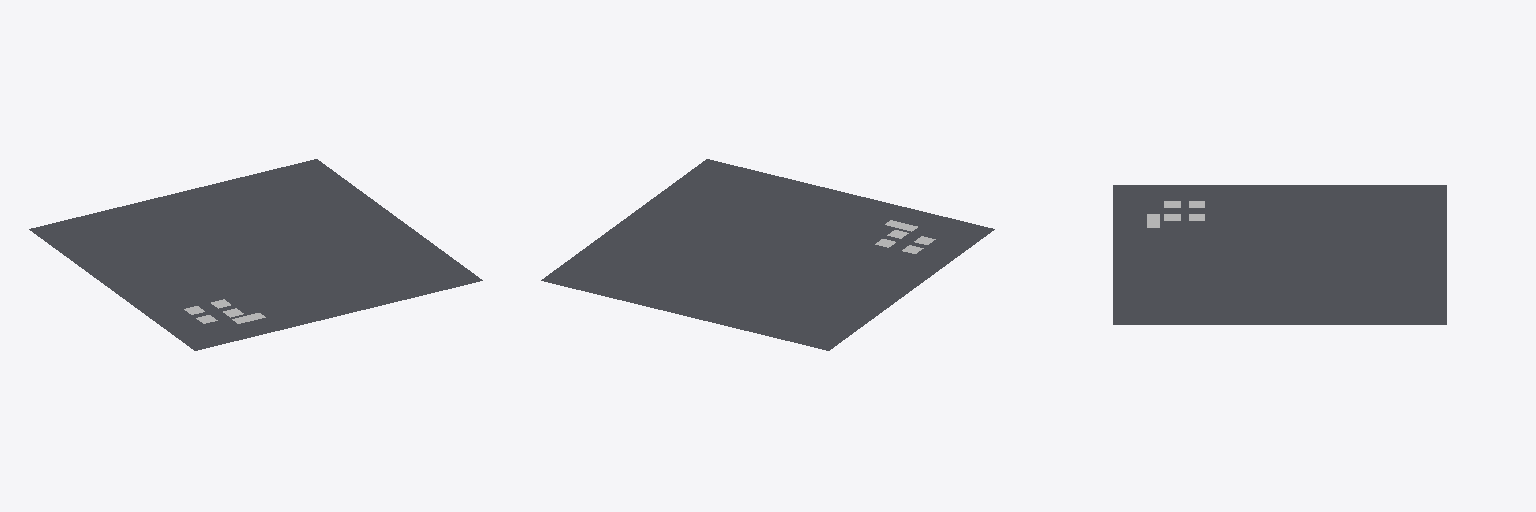
The picture shows the model from 3 angles: view 1: azimuth 30°, elevation 25°; view 2: azimuth 150°, elevation 25°; view 3: azimuth 270°, elevation 25°; orthographic projection.
Parts seen in each view (by area): view 1: Plane; view 2: Plane; view 3: Plane.
Boxes of the visible parts, x1=… form: Plane: x1=29, y1=159, x2=482, y2=350; Plane: x1=541, y1=159, x2=994, y2=350; Plane: x1=1113, y1=185, x2=1446, y2=324.
Bounding box in the file's own units: 100 × 0.6888 × 100.